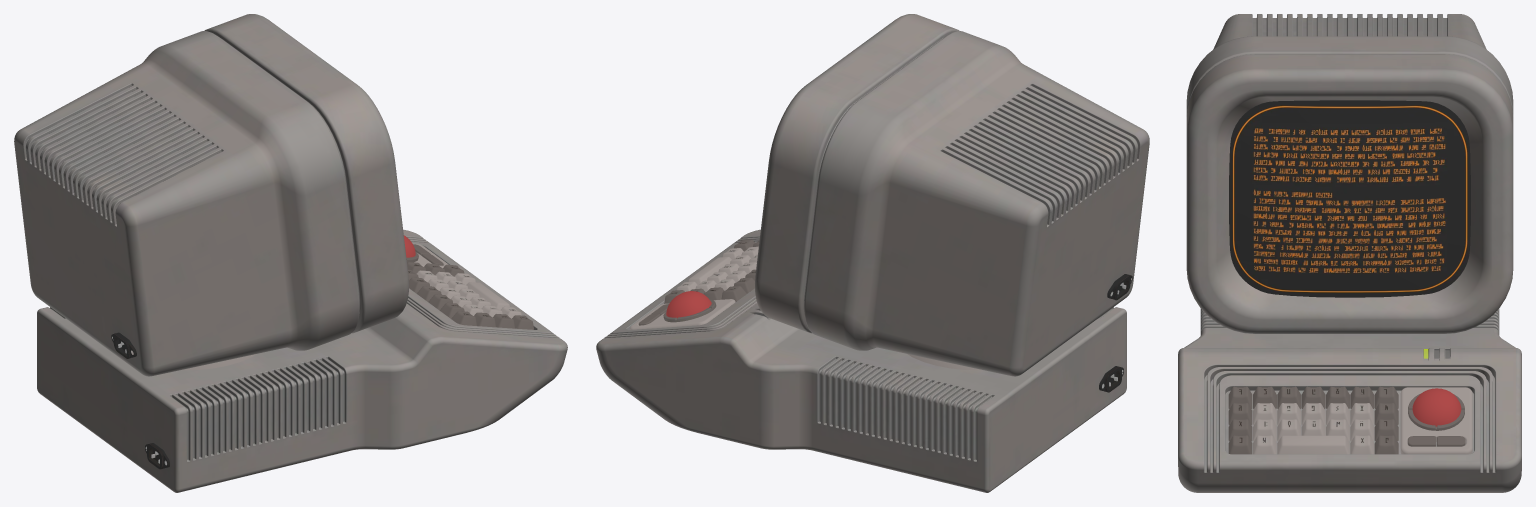
The model's file is tech2.glb.
The picture shows the model from 3 angles, left to right: view 1: azimuth 30°, elevation 25°; view 2: azimuth 150°, elevation 25°; view 3: azimuth 270°, elevation 25°; orthographic projection. The views are drawn at different scales.
Visible parts, largest first — view 1: defaultMaterial (×2); view 2: defaultMaterial (×2); view 3: defaultMaterial (×2).
Part boxes in pixels (x1=…): defaultMaterial (×2): x1=14, y1=14, x2=567, y2=492; defaultMaterial (×2): x1=596, y1=14, x2=1149, y2=492; defaultMaterial (×2): x1=1178, y1=14, x2=1521, y2=492.
Size of the model in its own units: 2 by 1.55 by 1.32.
2 materials, 2 textured.
